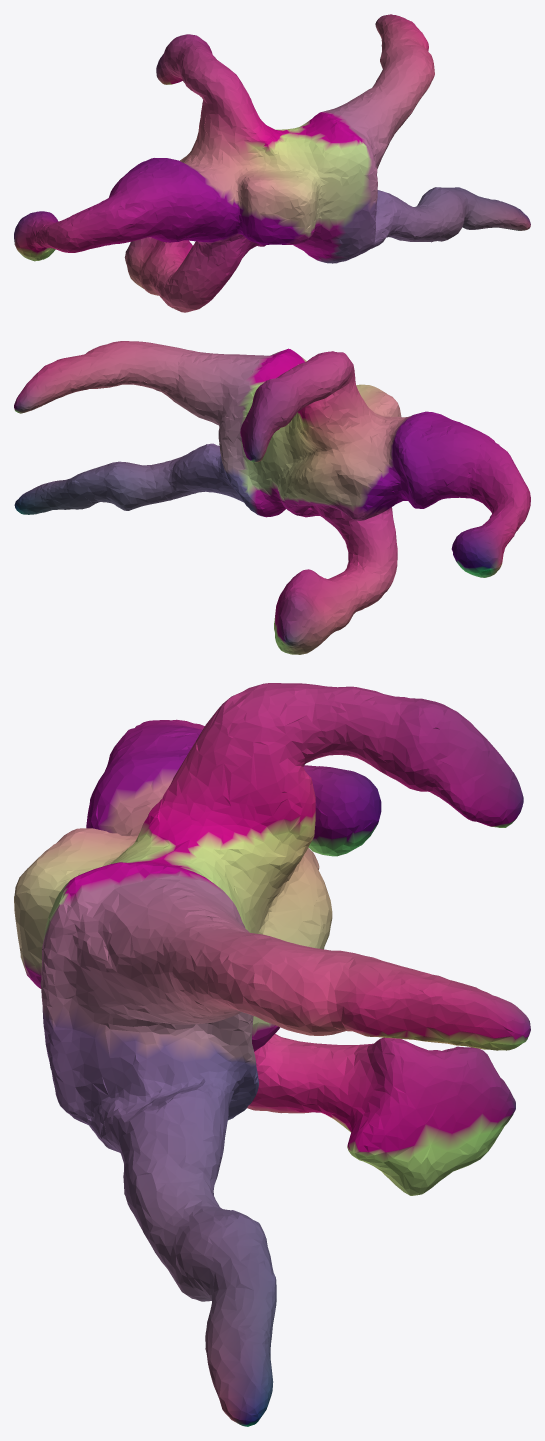
Rendered from santa-7.off.obj.
The picture shows the model from 3 angles, top to bottom: view 1: azimuth 30°, elevation 25°; view 2: azimuth 150°, elevation 25°; view 3: azimuth 270°, elevation 25°; orthographic projection. The views are drawn at different scales.
Bounding box in the file's own units: 1.56 × 0.7946 × 0.7337.
